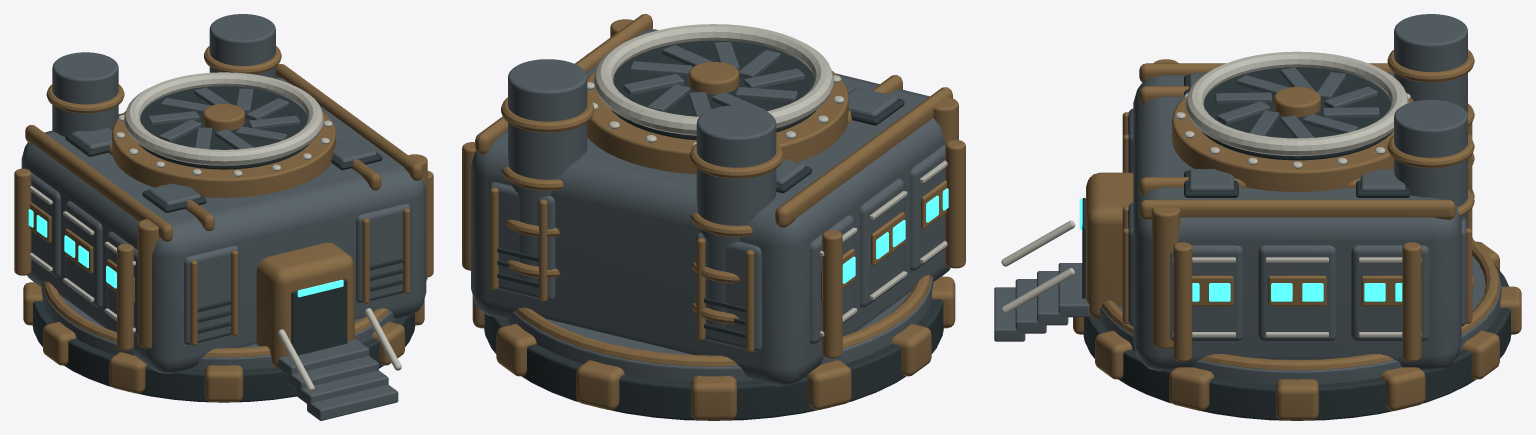
The model's file is arsenal.glb.
3 renders of one model, left to right at view 1: azimuth 30°, elevation 25°; view 2: azimuth 150°, elevation 25°; view 3: azimuth 270°, elevation 25°, orthographic. The views are drawn at different scales.
Parts seen in each view (by area): view 1: Atelier nervuré, Embase turbine, Couronne de ventilation, Sas, Semelle démontable, Réservoir arrière, Puits de ventilation, Panneau de façade, Panneau de façade.001, Porte, Réservoir arrière.001, Raidisseur (+44 smaller); view 2: Atelier nervuré, Semelle démontable, Réservoir arrière, Réservoir arrière.001, Couronne de ventilation, Embase turbine, Châssis, Puits de ventilation, Ceinture du châssis, Raidisseur, Panneau de façade.002, Plaque latérale.001 (+38 smaller); view 3: Atelier nervuré, Semelle démontable, Couronne de ventilation, Embase turbine, Réservoir arrière.001, Raidisseur.003, Sas, Puits de ventilation, Plaque latérale.004, Réservoir arrière, Châssis, Plaque latérale.005 (+41 smaller).
Part boxes in pixels (left/top/right/bottom): Atelier nervuré: left=21, top=77, right=426, bottom=373; Embase turbine: left=112, top=111, right=335, bottom=197; Couronne de ventilation: left=124, top=72, right=323, bottom=165; Sas: left=256, top=242, right=354, bottom=368; Semelle démontable: left=32, top=301, right=415, bottom=402; Réservoir arrière: left=52, top=52, right=118, bottom=136; Puits de ventilation: left=139, top=86, right=308, bottom=169; Panneau de façade: left=184, top=246, right=239, bottom=344; Panneau de façade.001: left=356, top=204, right=411, bottom=303; Porte: left=291, top=279, right=347, bottom=355; Réservoir arrière.001: left=209, top=14, right=275, bottom=78; Raidisseur: left=25, top=125, right=172, bottom=241; Atelier nervuré: left=471, top=29, right=950, bottom=386; Semelle démontable: left=484, top=299, right=943, bottom=420; Réservoir arrière: left=696, top=105, right=776, bottom=332; Réservoir arrière.001: left=508, top=59, right=587, bottom=286; Couronne de ventilation: left=594, top=24, right=833, bottom=135; Embase turbine: left=587, top=71, right=848, bottom=174; Châssis: left=507, top=276, right=933, bottom=381; Puits de ventilation: left=611, top=40, right=816, bottom=140; Ceinture du châssis: left=514, top=275, right=931, bottom=366; Raidisseur: left=775, top=87, right=952, bottom=227; Panneau de façade.002: left=695, top=232, right=761, bottom=351; Plaque latérale.001: left=859, top=178, right=904, bottom=307; Atelier nervuré: left=1133, top=75, right=1461, bottom=371; Semelle démontable: left=1083, top=265, right=1511, bottom=420; Couronne de ventilation: left=1186, top=51, right=1408, bottom=156; Embase turbine: left=1172, top=98, right=1413, bottom=191; Réservoir arrière.001: left=1394, top=99, right=1467, bottom=228; Raidisseur.003: left=1139, top=199, right=1455, bottom=219; Sas: left=1086, top=172, right=1133, bottom=318; Puits de ventilation: left=1202, top=67, right=1392, bottom=160; Plaque latérale.004: left=1258, top=245, right=1336, bottom=341; Réservoir arrière: left=1394, top=14, right=1467, bottom=113; Châssis: left=1099, top=256, right=1501, bottom=384; Plaque latérale.005: left=1351, top=245, right=1429, bottom=341.
Size of the model in its own units: 3.76 by 2.4 by 4.42.
